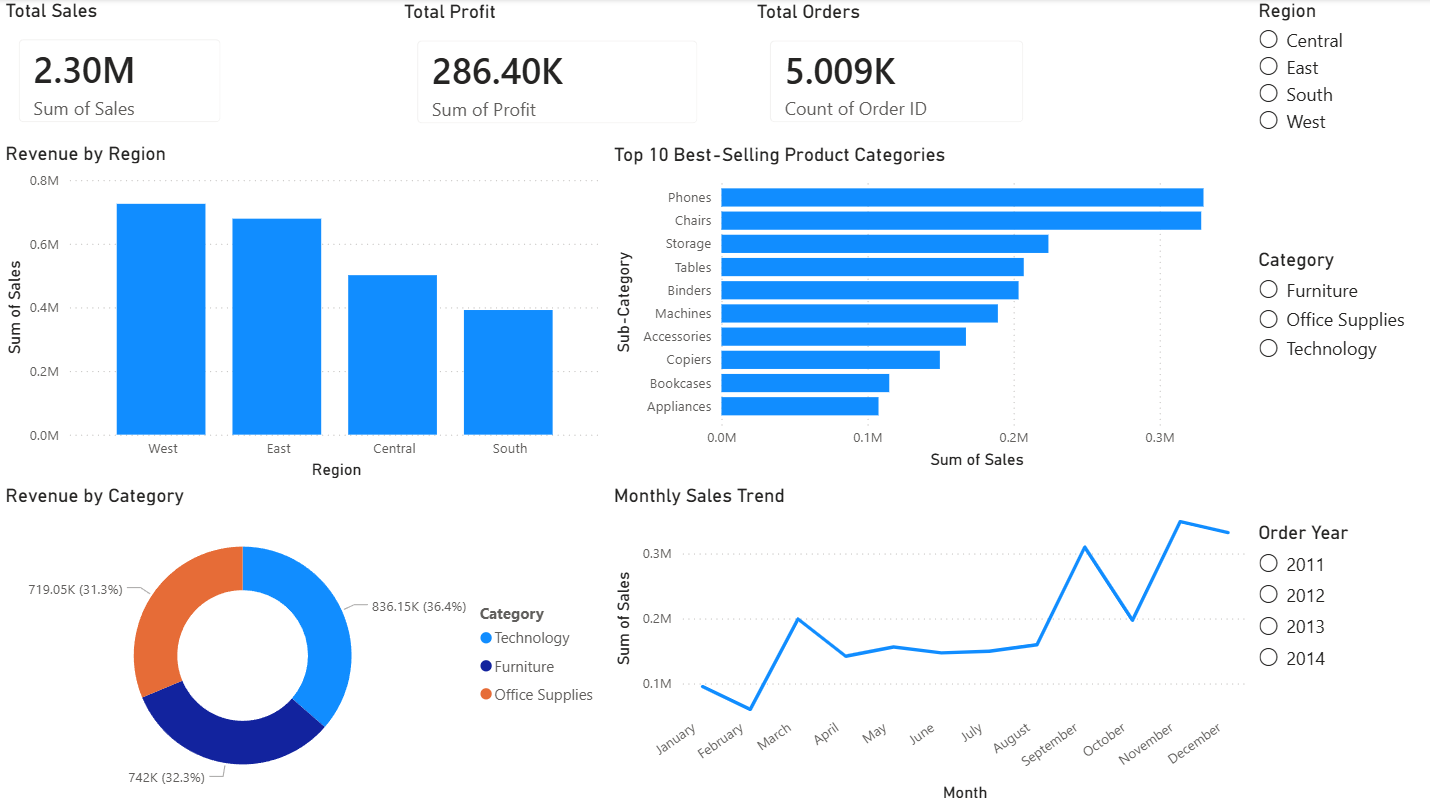

The page's visual inventory and layout, read from the dashboard file:
{"tool":"powerbi","page":{"name":"Page 1","canvas":[1280,720],"ordinal":0},"visuals":[{"type":"lineChart","title":"Monthly Sales Trend","fields":{"Category":["Orders.Order Date.Variation.Date Hierarchy.Year","Orders.Order Date.Variation.Date Hierarchy.Quarter","Orders.Order Date.Variation.Date Hierarchy.Month","Orders.Order Date.Variation.Date Hierarchy.Day"],"Y":["Sum(Orders.Sales)"]},"box":[542.9,414.3,574.3,305.7],"z":0},{"type":"clusteredBarChart","title":"Top 10 Best-Selling Product Categories","fields":{"Category":["Orders.Sub-Category"],"Y":["Sum(Orders.Sales)"]},"box":[542.9,128.6,575.7,285.7],"z":1000},{"type":"donutChart","title":"Revenue by Category","fields":{"Category":["Orders.Category"],"Y":["Sum(Orders.Sales)"]},"box":[0,432.9,542.9,287.1],"z":2000},{"type":"clusteredColumnChart","title":"Revenue by Region","fields":{"Category":["Orders.Region"],"Y":["Sum(Orders.Sales)"]},"box":[0,127.1,542.9,287.1],"z":3000},{"type":"listSlicer","fields":{"Values":["Orders.Order Year"]},"box":[1117.1,465.7,162.9,254.3],"z":4000},{"type":"listSlicer","fields":{"Values":["Orders.Category"]},"box":[1117.1,222.9,162.9,242.9],"z":5000},{"type":"listSlicer","fields":{"Values":["Orders.Region"]},"box":[1117.1,0,162.9,222.9],"z":6000},{"type":"cardVisual","title":"Total Sales","fields":{"Data":["Sum(Orders.Sales)"]},"box":[0,0,214.4,127.8],"z":7000},{"type":"cardVisual","title":"Total Profit","fields":{"Data":["Sum(Orders.Profit)"]},"box":[355.6,1.1,284.4,127.8],"z":8000},{"type":"cardVisual","title":"Total Orders","fields":{"Data":["Count(Orders.Order ID)"]},"box":[670,1.1,260,126.7],"z":9000}]}

Visuals, with their boxes in screenshot pixels (x1, y1, x2, y2), scaled from the page's 1280x720 canvas onto the 1430x804 screenshot:
"Monthly Sales Trend" lineChart: [left=607, top=463, right=1248, bottom=803]
"Top 10 Best-Selling Product Categories" clusteredBarChart: [left=607, top=144, right=1250, bottom=463]
"Revenue by Category" donutChart: [left=0, top=483, right=607, bottom=803]
"Revenue by Region" clusteredColumnChart: [left=0, top=142, right=607, bottom=463]
listSlicer - Orders.Order Year: [left=1248, top=520, right=1429, bottom=803]
listSlicer - Orders.Category: [left=1248, top=249, right=1429, bottom=520]
listSlicer - Orders.Region: [left=1248, top=0, right=1429, bottom=249]
"Total Sales" cardVisual: [left=0, top=0, right=240, bottom=143]
"Total Profit" cardVisual: [left=397, top=1, right=715, bottom=144]
"Total Orders" cardVisual: [left=749, top=1, right=1039, bottom=143]
